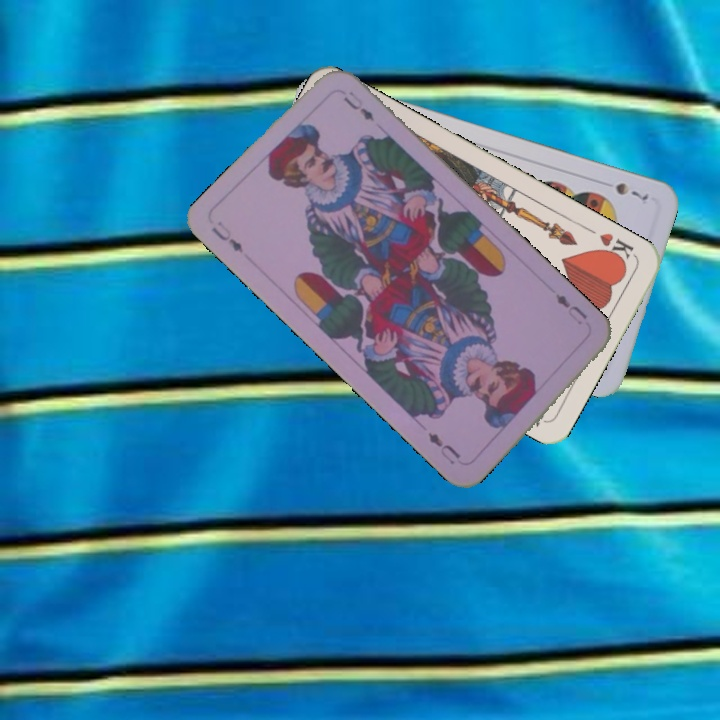EU: (551, 289, 590, 328), (208, 216, 246, 256)
HK: (594, 228, 639, 267)
S7: (611, 178, 651, 203)
